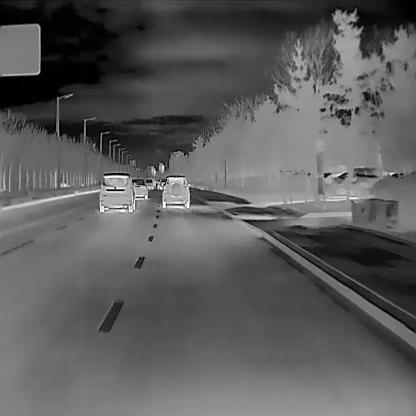car: (99, 172, 136, 212), (162, 174, 190, 208), (132, 176, 148, 199), (144, 178, 153, 189), (157, 178, 163, 189), (161, 178, 166, 189)
